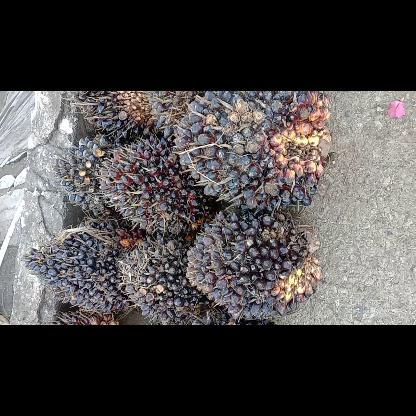TBS mentah: (170, 90, 336, 214), (184, 200, 324, 322), (95, 137, 221, 235), (20, 218, 142, 316), (120, 232, 238, 324), (51, 132, 130, 224), (70, 91, 172, 143)
